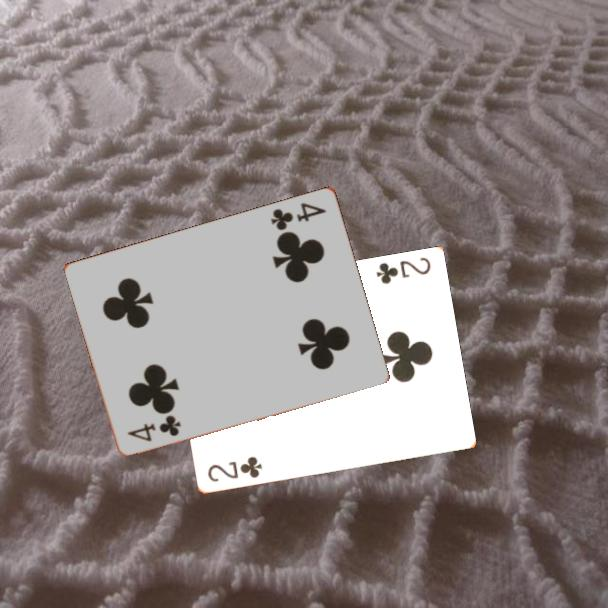c02: (372, 254, 433, 287), (204, 453, 265, 485)
c04: (267, 199, 329, 233), (124, 412, 184, 444)
